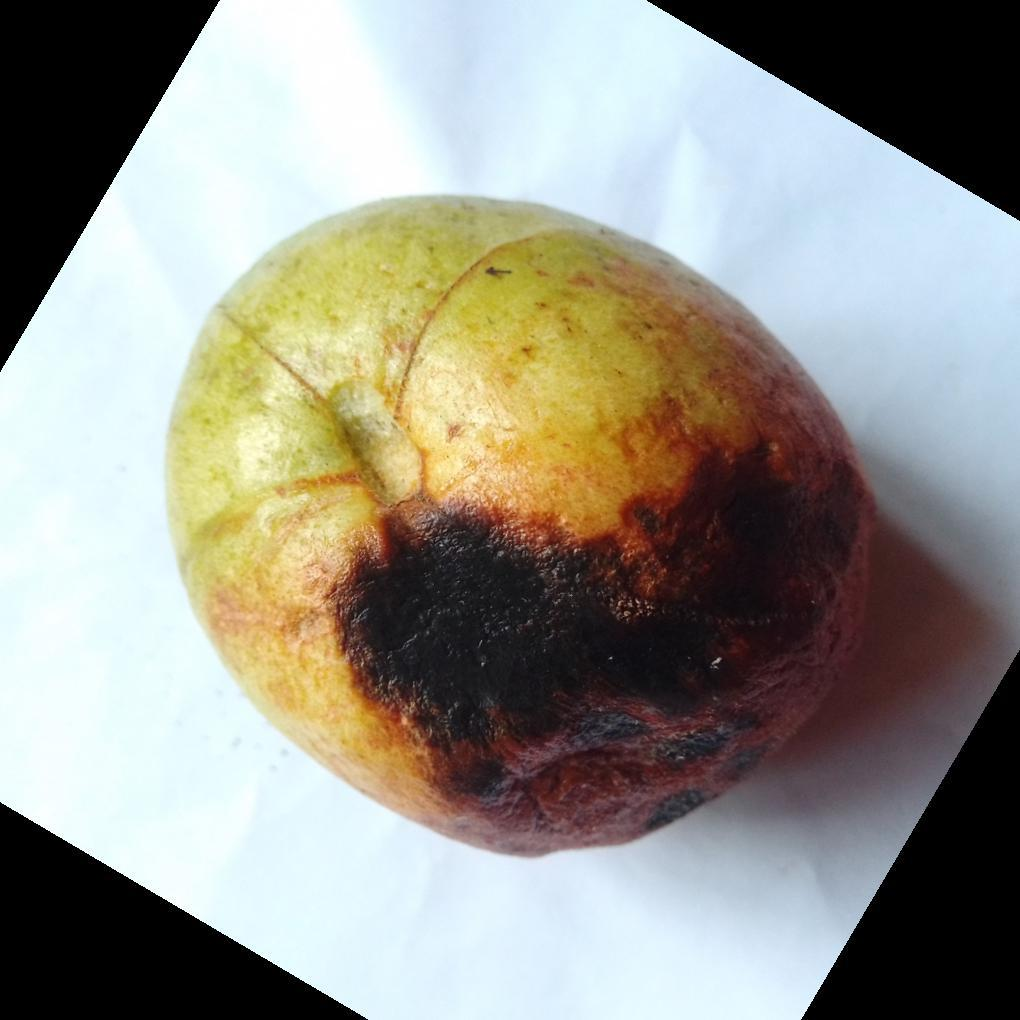FreshOrange: (163, 196, 879, 863)
